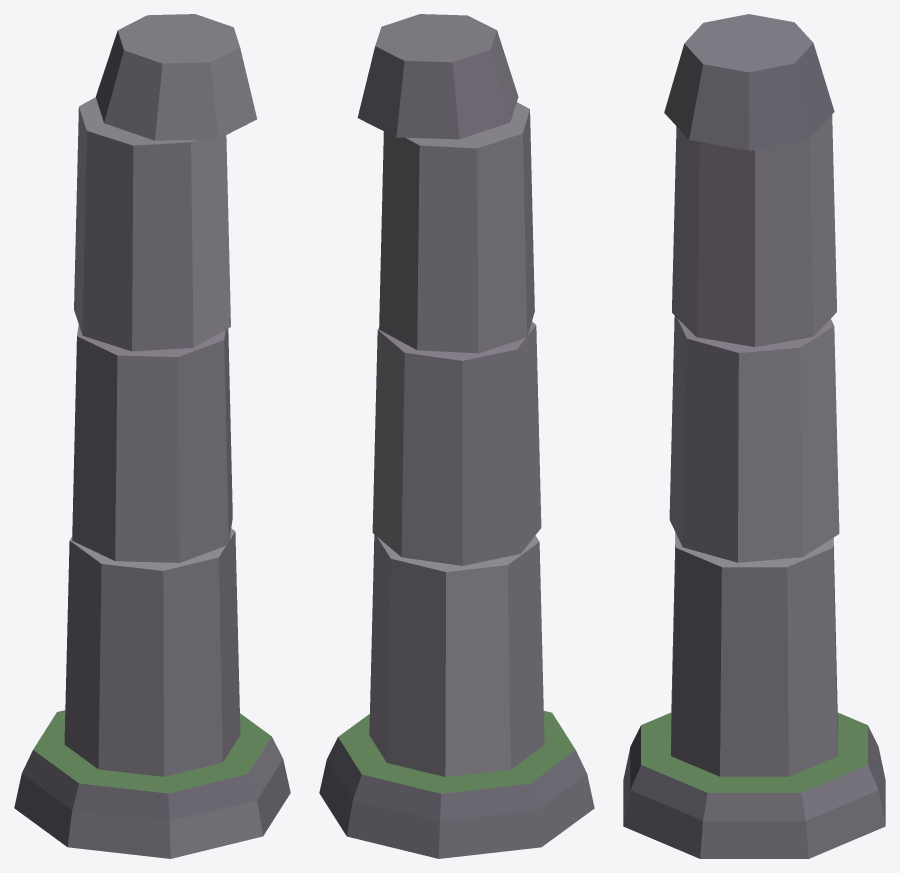
The model's file is Pillar_A.fbx.
The picture shows the model from 3 angles, left to right: view 1: azimuth 30°, elevation 25°; view 2: azimuth 150°, elevation 25°; view 3: azimuth 270°, elevation 25°; orthographic projection. The views are drawn at different scales.
Parts seen in each view (by area): view 1: Pillar_A; view 2: Pillar_A; view 3: Pillar_A.
Part boxes in pixels (x1,y1,x2,y2): Pillar_A: (14,14,290,858); Pillar_A: (319,14,594,858); Pillar_A: (623,14,885,858).
Size of the model in its own units: 2.03 by 6.61 by 2.03.
